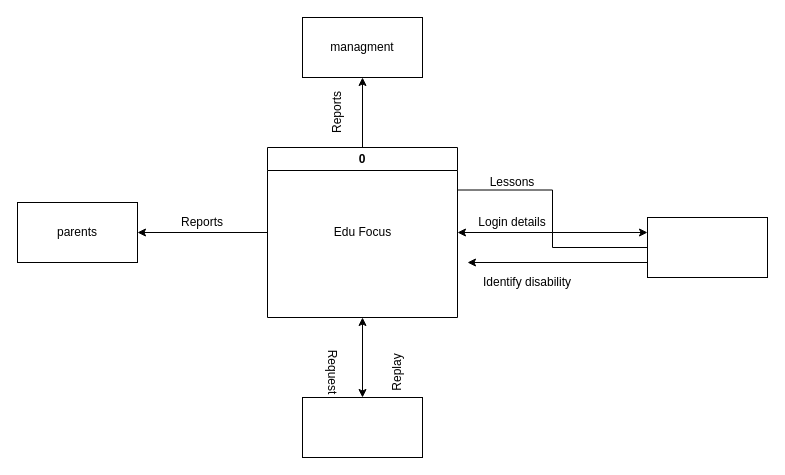
Some shapes in this 785 by 475 pixel diagram are drawn without their labels. The centre of each missing label's shape, as x and y in pixels:
"Students" goes at [707,247].
"Students database" goes at [362,427].
